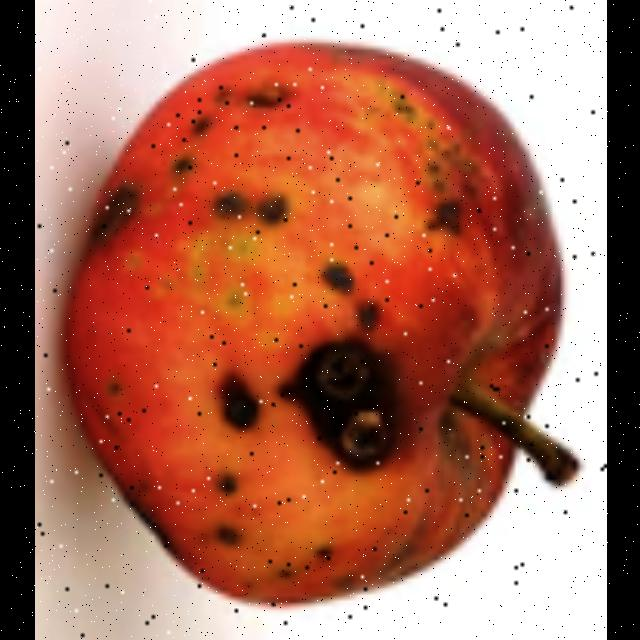Apel Tidak Segar: (51, 33, 574, 615)
